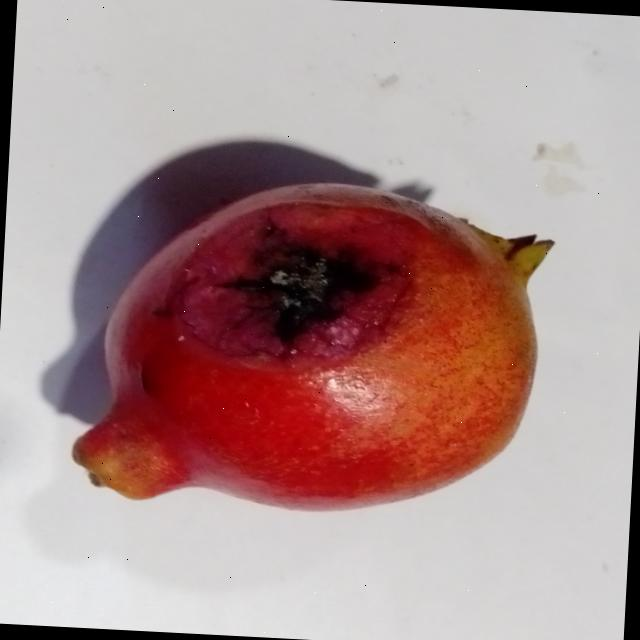Rotten: (54, 164, 567, 530)
